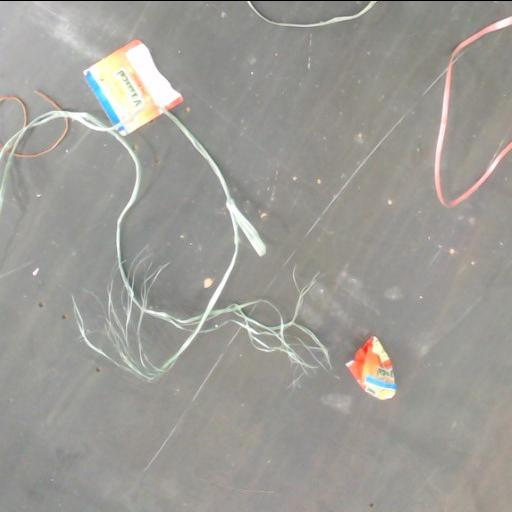conveyor belt: (0, 1, 511, 512), (124, 117, 232, 314), (444, 28, 511, 196), (254, 1, 366, 21), (142, 319, 185, 362)
packet: (84, 39, 182, 135), (346, 336, 396, 399)
thread: (0, 109, 330, 380), (434, 16, 511, 207), (247, 1, 377, 27)
